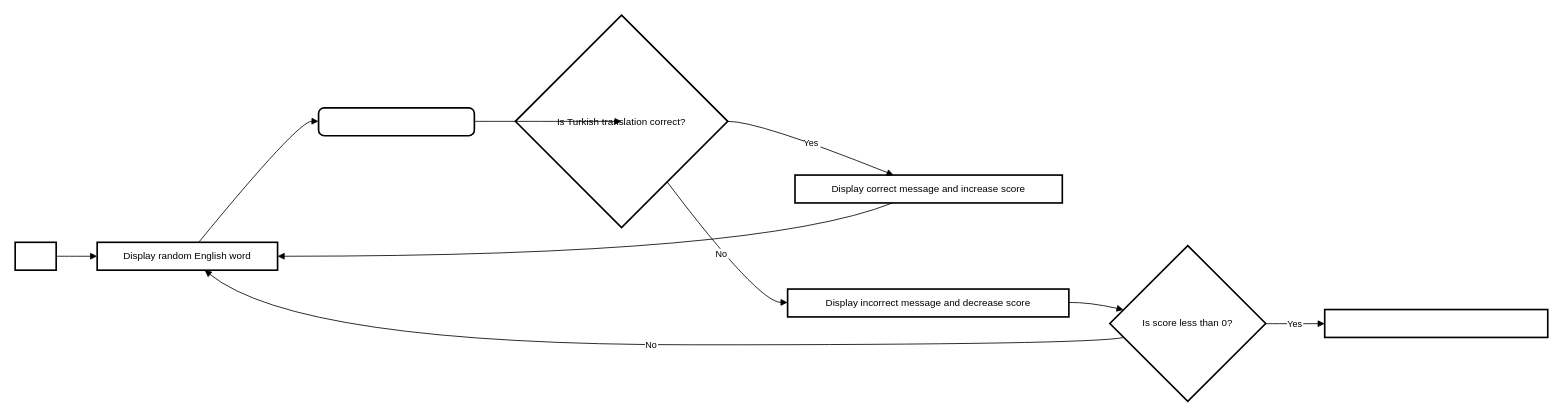
Some shapes in this 1562 by 416 pixel diagram are drawn without their labels. The box of each missing label's shape, as (x1, y1, x2, y2) in pixels:
Display game over message and end: (1323, 308, 1548, 338)
Start: (14, 241, 57, 271)
User inputs Turkish word: (317, 107, 475, 136)
